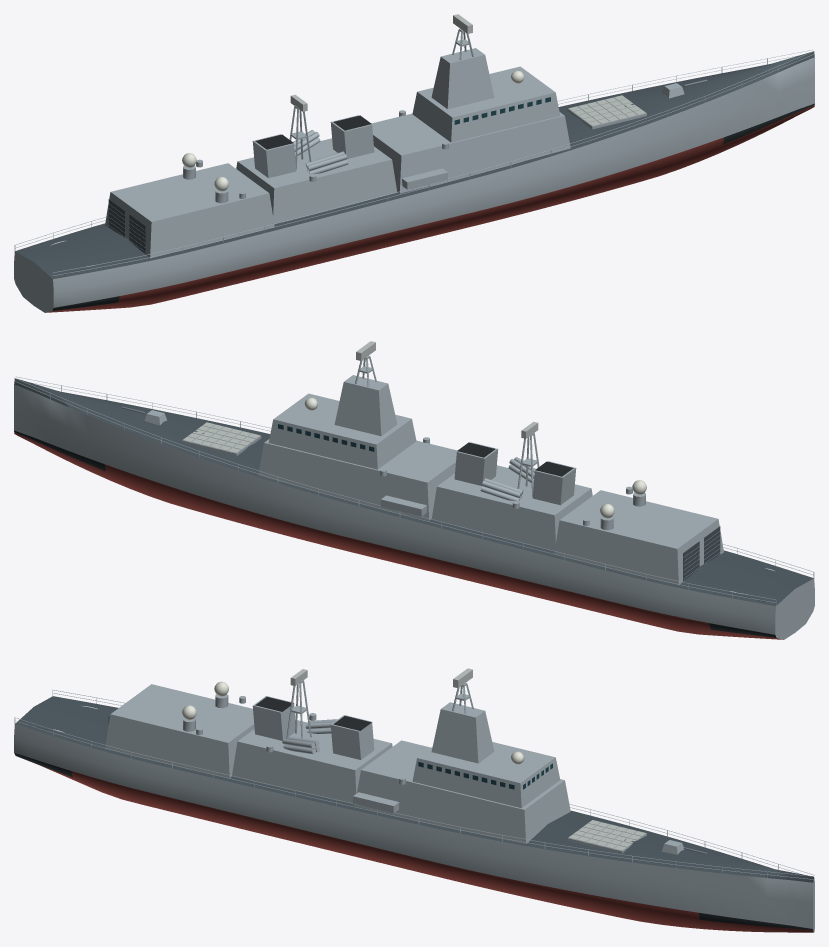
File: pla_ffg_type054a.glb
3 renders of one model, top to bottom at view 1: azimuth 30°, elevation 25°; view 2: azimuth 150°, elevation 25°; view 3: azimuth 330°, elevation 25°, orthographic.
Visible parts, largest first — view 1: naval_paint, deck_non_skid, antifouling, array_face, boot_topping, rubber; view 2: naval_paint, deck_non_skid, antifouling, array_face, boot_topping, rubber; view 3: naval_paint, deck_non_skid, antifouling, array_face, boot_topping, rubber, radome.
Boxes of the visible parts, left/top/right/bottom form: naval_paint: left=14, top=28, right=814, bottom=312; deck_non_skid: left=15, top=51, right=814, bottom=279; antifouling: left=45, top=105, right=814, bottom=312; array_face: left=290, top=14, right=645, bottom=126; boot_topping: left=52, top=103, right=814, bottom=310; rubber: left=255, top=115, right=371, bottom=149; naval_paint: left=14, top=355, right=814, bottom=639; deck_non_skid: left=14, top=378, right=813, bottom=606; antifouling: left=14, top=432, right=783, bottom=639; array_face: left=183, top=341, right=538, bottom=453; boot_topping: left=14, top=430, right=776, bottom=637; rubber: left=457, top=442, right=573, bottom=476; naval_paint: left=14, top=680, right=814, bottom=932; deck_non_skid: left=15, top=696, right=813, bottom=882; antifouling: left=29, top=761, right=813, bottom=932; array_face: left=290, top=668, right=645, bottom=850; boot_topping: left=14, top=753, right=813, bottom=930; rubber: left=255, top=697, right=371, bottom=730; radome: left=182, top=681, right=524, bottom=764.
Size of the model in its own units: 10 by 2.41 by 1.21.
